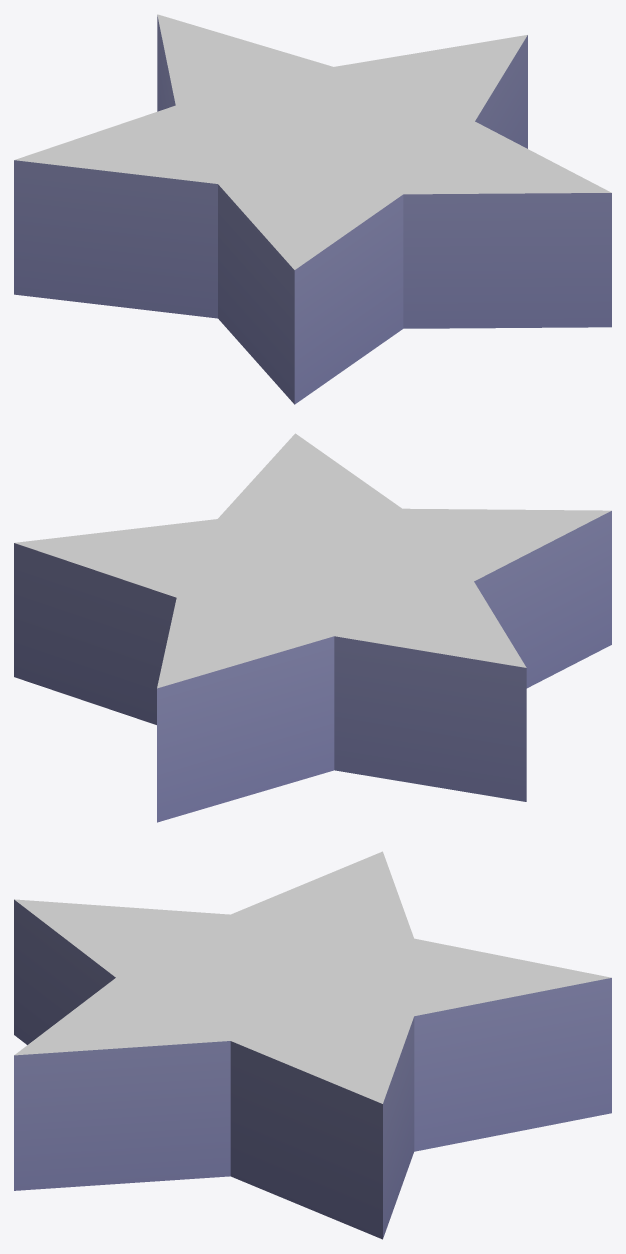
The model's file is shape-star_0.glb.
3 views of the same model, one above another, from view 1: azimuth 30°, elevation 25°; view 2: azimuth 150°, elevation 25°; view 3: azimuth 270°, elevation 25° (orthographic).
Parts seen in each view (by area): view 1: shape-star; view 2: shape-star; view 3: shape-star.
Boxes of the visible parts, x1,y1,x2,y2 form: shape-star: (14, 14, 611, 404); shape-star: (14, 433, 611, 822); shape-star: (14, 851, 611, 1239).
Bounding box in the file's own units: 0.25 × 0.0625 × 0.25.
